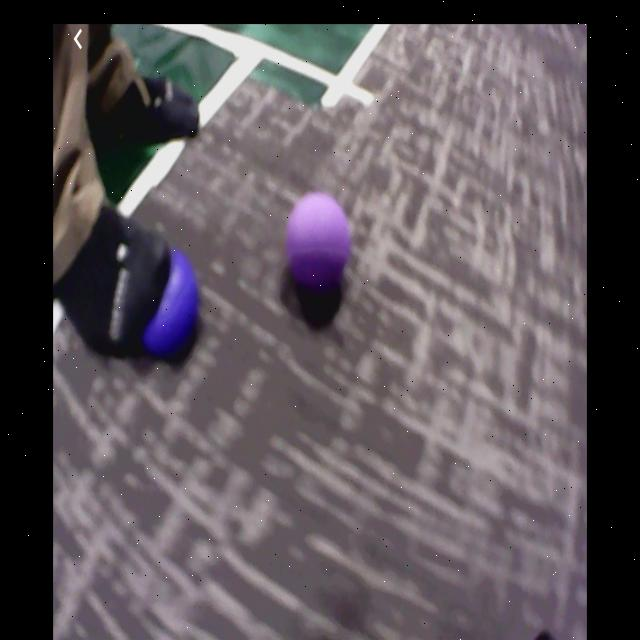ball: (139, 254, 197, 364), (287, 193, 350, 291)
